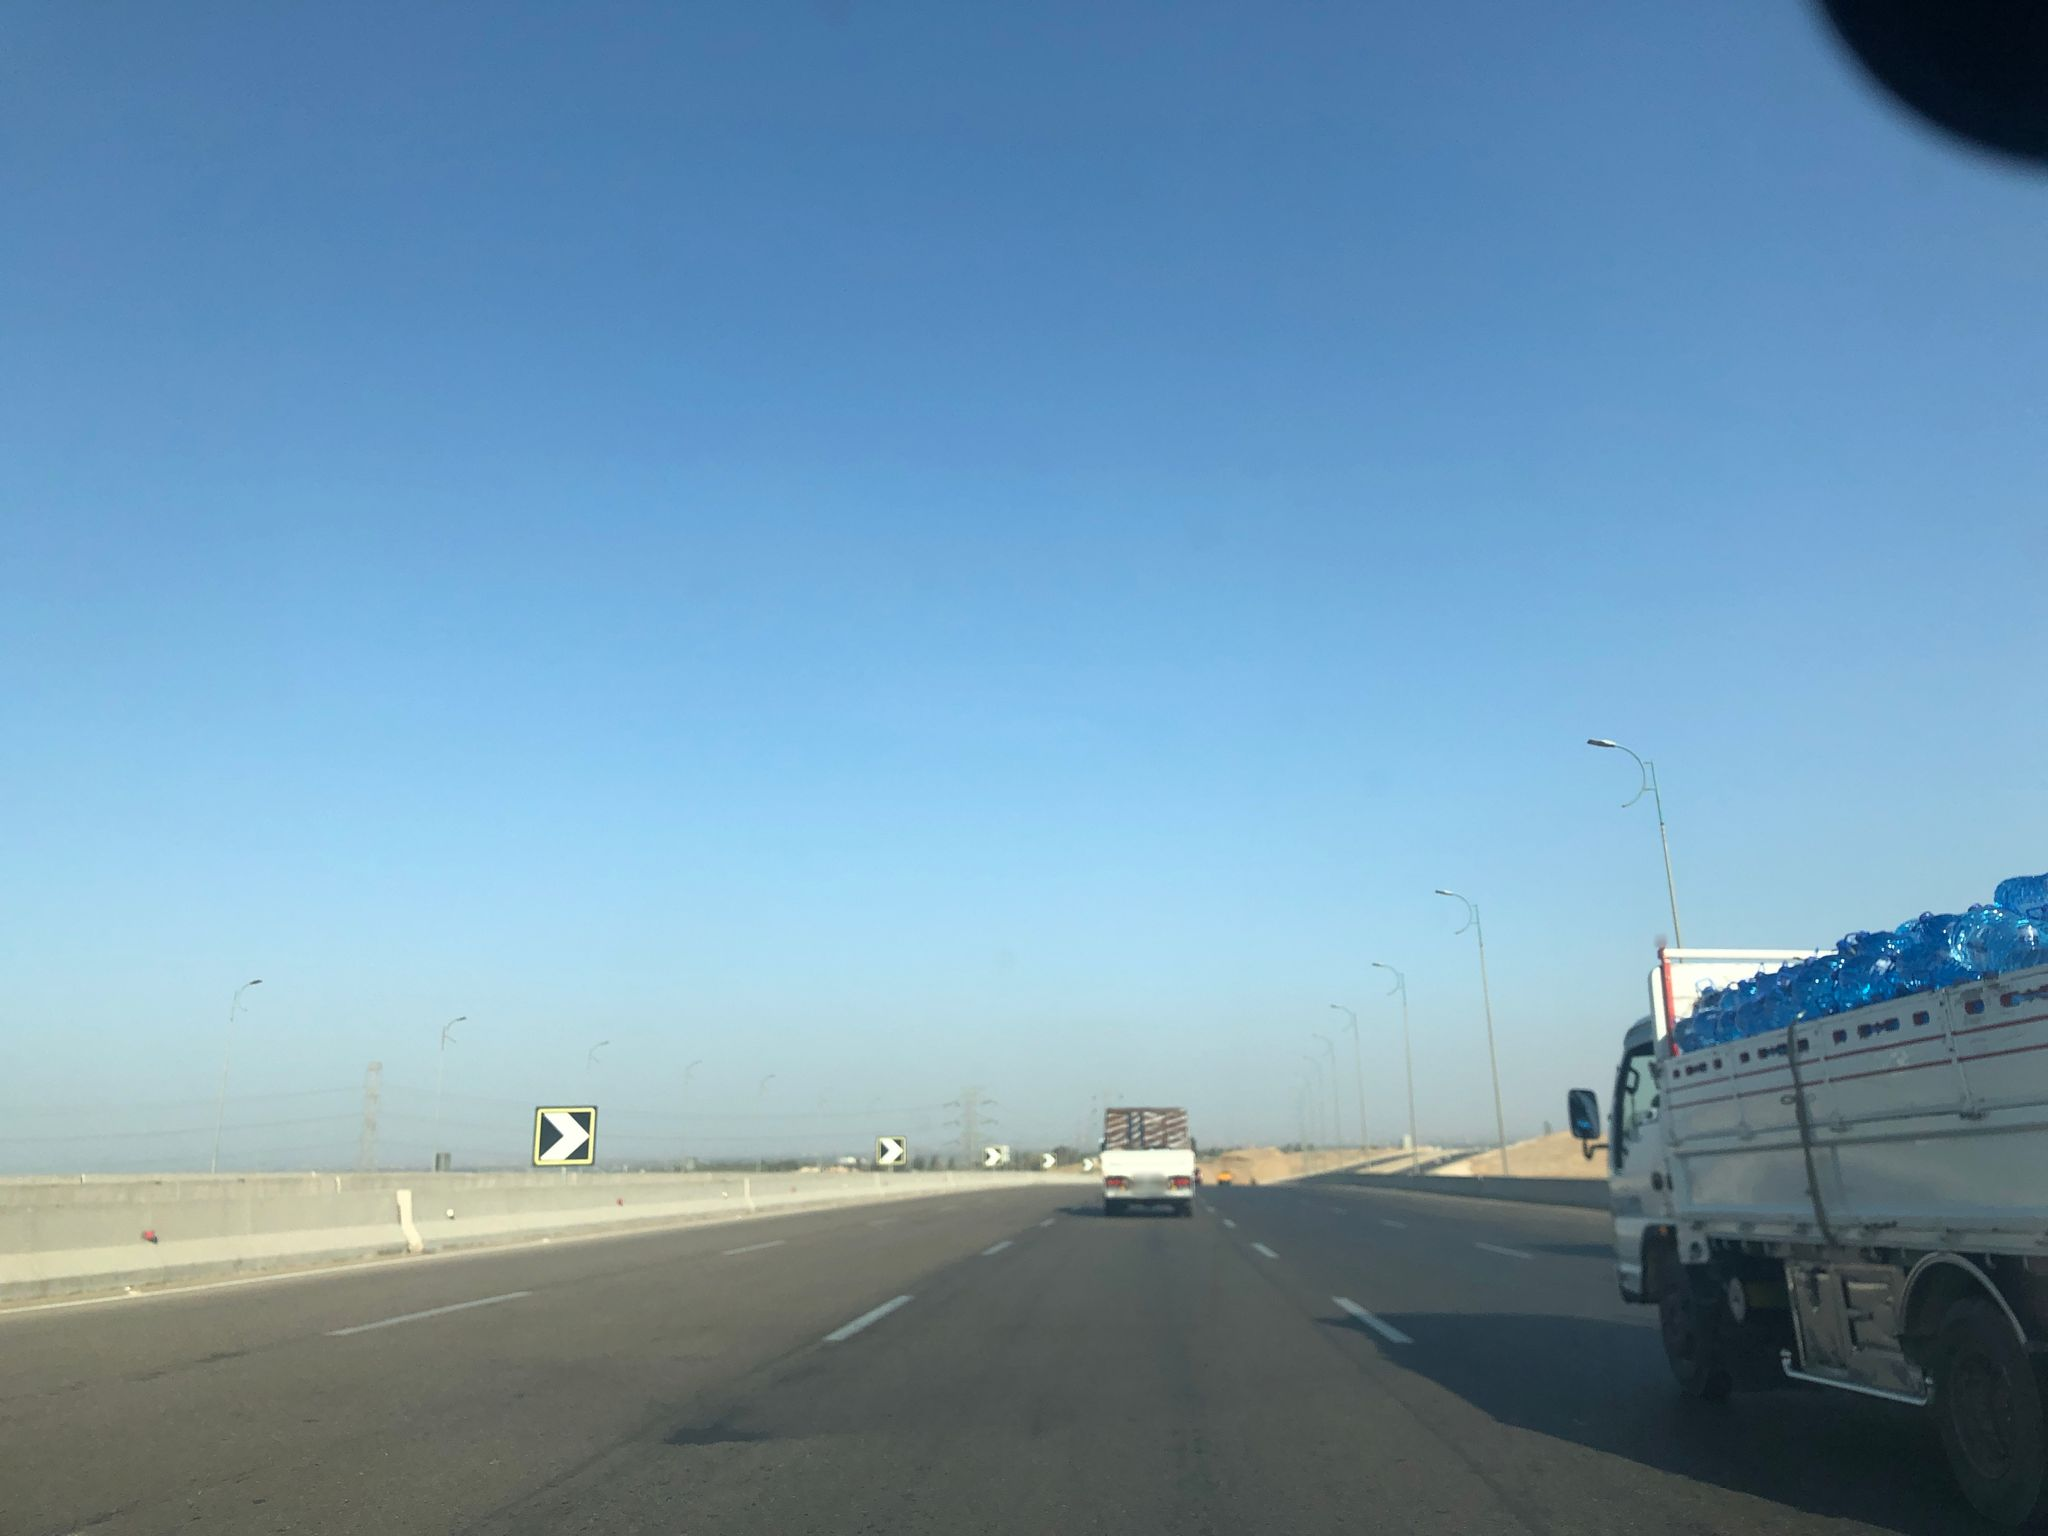truck: (1566, 868, 2048, 1530), (1097, 1102, 1200, 1218)
